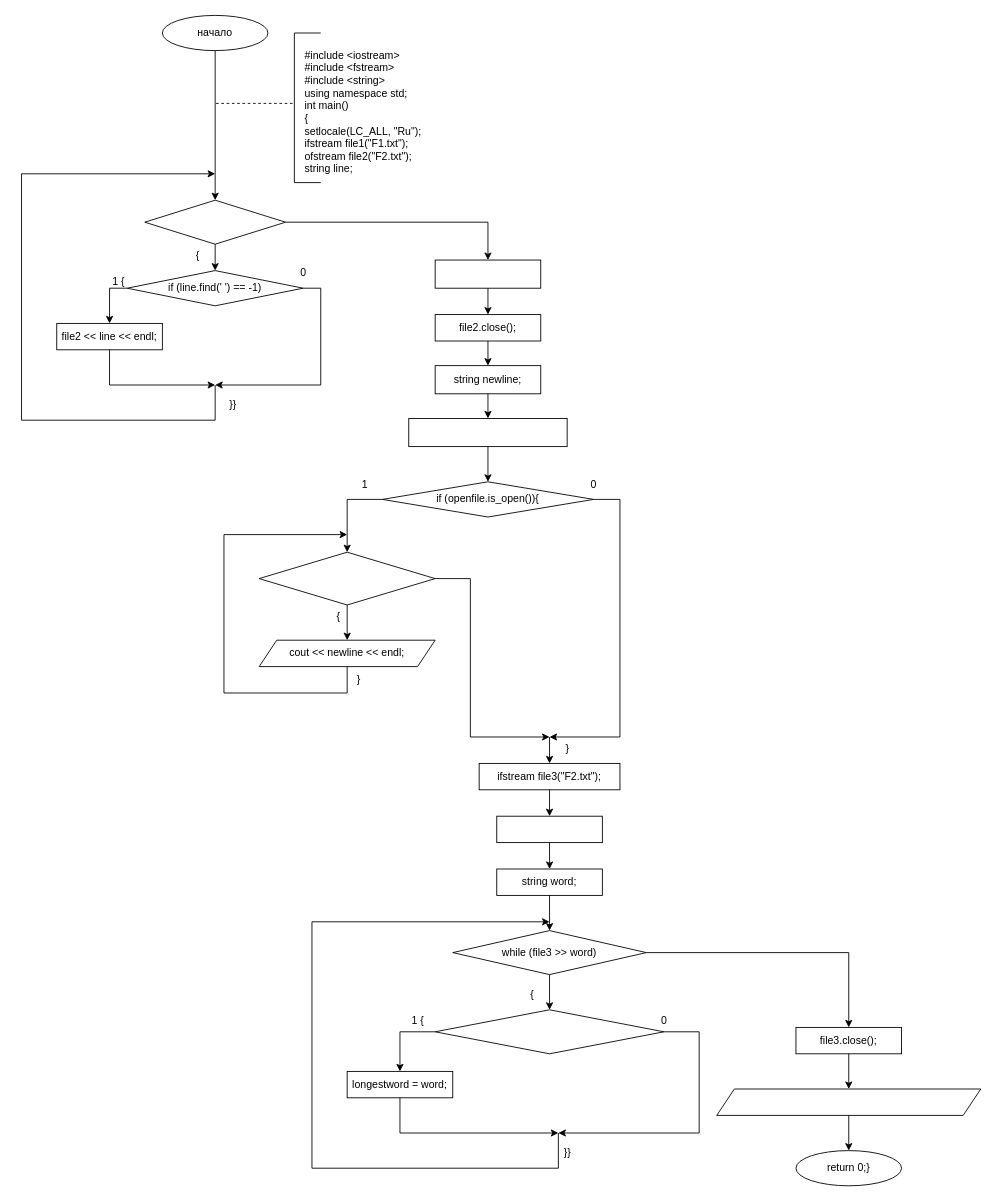
This 996x1201 diagram has some shape labels left out. Here are the shapes that lost their labels. From the top down, the box of each, then its label:
(144, 199, 286, 244): while (getline(file1, line))
(434, 259, 541, 288): file1.close();
(408, 418, 567, 447): ifstream openfile("F2.txt");
(258, 551, 435, 605): while (getline(openfile, newline))
(496, 815, 602, 843): string longestword;
(434, 1009, 664, 1054): if (word.length() > longestword.length())
(716, 1088, 981, 1115): cout <<"Самое длинное слово: " << longestword;
